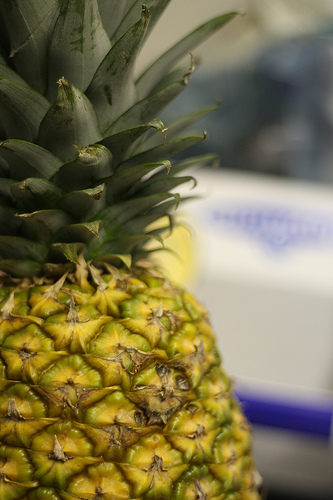pineapple: (1, 0, 257, 498)
